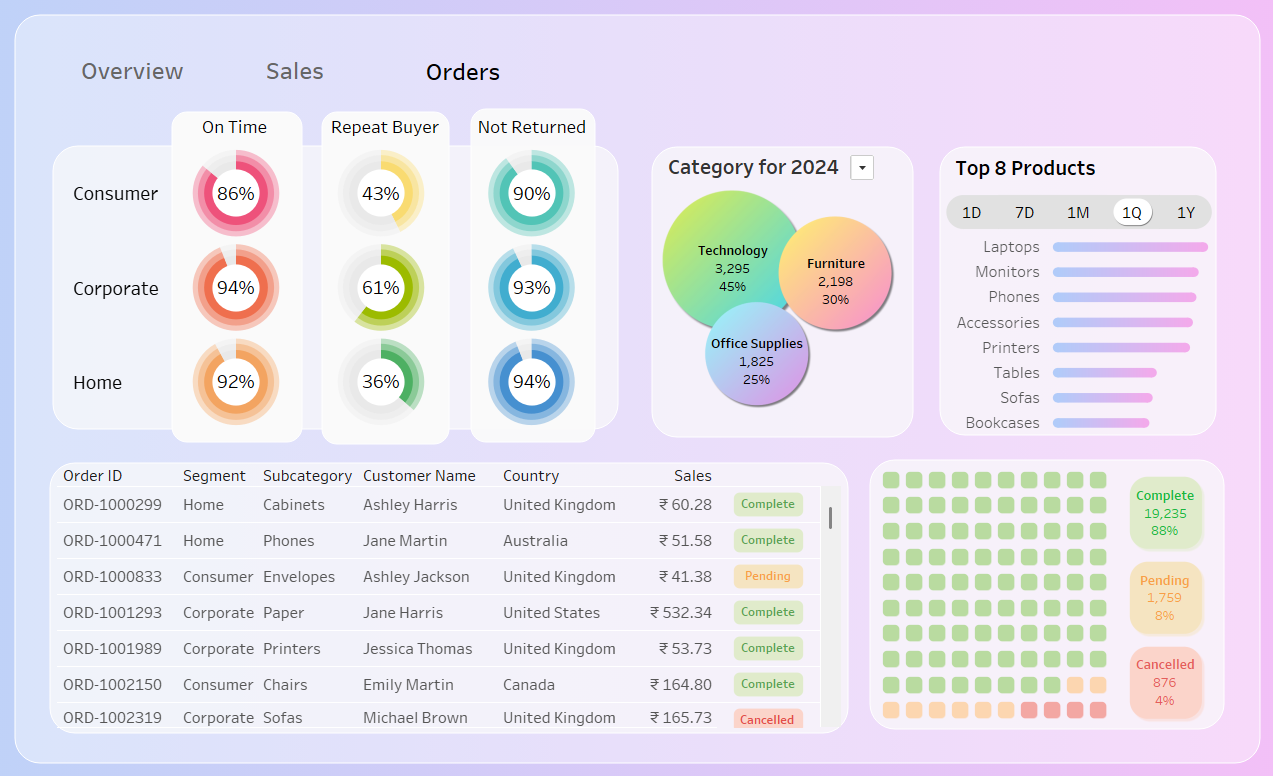

The dashboard page shown, as its layout file describes it:
{"tool":"tableau","page":{"name":"Orders","canvas":[1300,800],"ordinal":0},"visuals":[{"type":"image","param":"Image/3 Orders.png","box":[0,0,1300,800]},{"type":"worksheet","title":"O Background","mark":"Automatic","box":[0,0,1300,800]},{"type":"dashboard-object","box":[64,53,164,61]},{"type":"dashboard-object","box":[228,53,164,61]},{"type":"text","box":[392,53,170,61]},{"type":"text","box":[202,124,93,30]},{"type":"text","box":[340,124,118,30]},{"type":"text","box":[488,124,116,30]},{"type":"worksheet","title":"O On Time","mark":"Pie","rows":["Segment"],"box":[81,159,246,283]},{"type":"worksheet","title":"O Repeat Customer","mark":"Pie","rows":["Segment"],"box":[343,159,104,283]},{"type":"worksheet","title":"O Returns","mark":"Pie","rows":["Segment"],"box":[490,159,111,283]},{"type":"worksheet","title":"O Year Filter","mark":"Automatic","box":[678,161,257,41]},{"type":"text","box":[966,165,186,30]},{"type":"filter","title":"O Year Filter","param":"[federated.18qixpl1yxt3as181nqhw1ruxtlp].[yr:Order Date:ok]","box":[861,166,30,29]},{"type":"worksheet","title":"O Bubbles","mark":"Shape","rows":["Calculation_1445092597922562059"],"cols":["Calculation_1445092597922480138"],"box":[668,194,257,232]},{"type":"worksheet","title":"O Mini Time Button","mark":"Shape","cols":["Calculation_1445092597928816654"],"box":[959,195,268,60]},{"type":"worksheet","title":"O Bar Chart","mark":"Line","rows":["Subcategory"],"box":[967,247,262,201]},{"type":"worksheet","title":"Table","mark":"Automatic","rows":["Order ID","Segment","Subcategory","Customer Name","Country","Sales"],"cols":["Calculation_1445092597936381975","Calculation_1445092597936402457"],"box":[71,479,784,262]},{"type":"worksheet","title":"Waffle","mark":"Shape","rows":["Rows"],"cols":["Columns"],"box":[894,480,229,256]},{"type":"worksheet","title":"Waffle Legend","mark":"Automatic","rows":["Status"],"cols":["Calculation_1445092597943967775","Calculation_1445092597943984161"],"box":[1125,484,109,254]}]}

Visuals, with their boxes in screenshot pixels (x1, y1, x2, y2), scaled from the page's 1300x800 canvas onto the 1273x776 screenshot:
image: select_region(0, 0, 1272, 775)
"O Background" worksheet: select_region(0, 0, 1272, 775)
dashboard-object: select_region(63, 51, 223, 111)
dashboard-object: select_region(223, 51, 384, 111)
text: select_region(384, 51, 550, 111)
text: select_region(198, 120, 289, 149)
text: select_region(333, 120, 448, 149)
text: select_region(478, 120, 591, 149)
"O On Time" worksheet (Pie marks): select_region(79, 154, 320, 429)
"O Repeat Customer" worksheet (Pie marks): select_region(336, 154, 438, 429)
"O Returns" worksheet (Pie marks): select_region(480, 154, 589, 429)
"O Year Filter" worksheet: select_region(664, 156, 916, 196)
text: select_region(946, 160, 1128, 189)
"O Year Filter" filter: select_region(843, 161, 872, 189)
"O Bubbles" worksheet (Shape marks): select_region(654, 188, 906, 413)
"O Mini Time Button" worksheet (Shape marks): select_region(939, 189, 1202, 247)
"O Bar Chart" worksheet (Line marks): select_region(947, 240, 1203, 435)
"Table" worksheet: select_region(70, 465, 837, 719)
"Waffle" worksheet (Shape marks): select_region(875, 466, 1100, 714)
"Waffle Legend" worksheet: select_region(1102, 469, 1208, 716)
